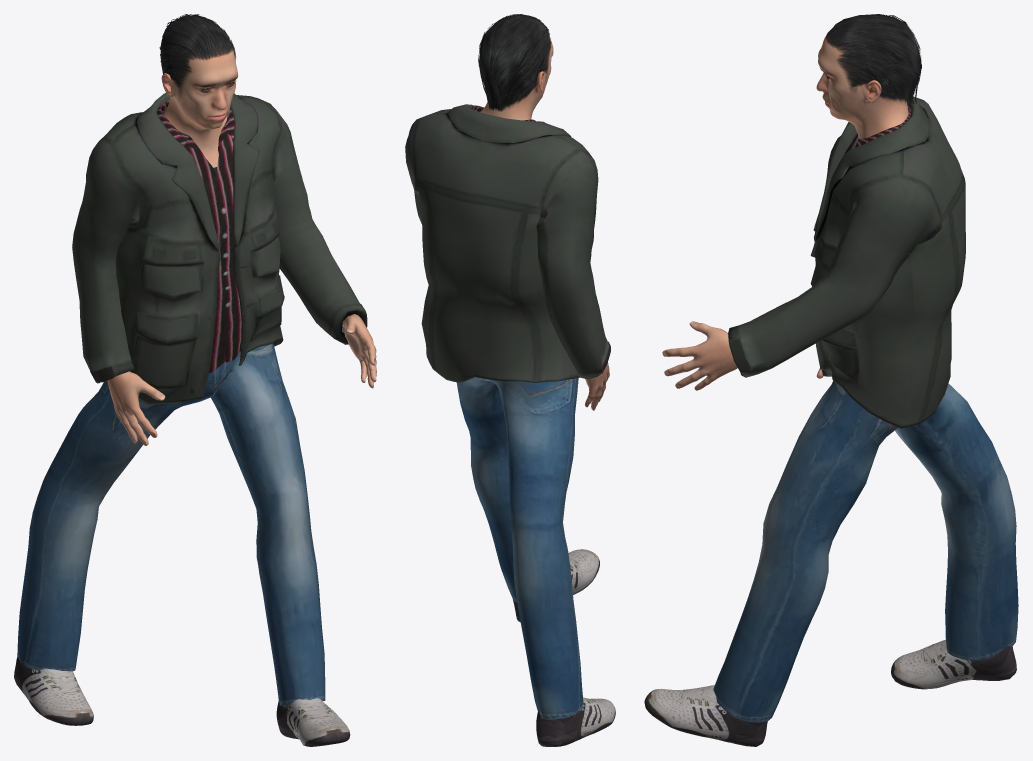
File: uomo-03.glb
The picture shows the model from 3 angles, left to right: view 1: azimuth 30°, elevation 25°; view 2: azimuth 150°, elevation 25°; view 3: azimuth 270°, elevation 25°; orthographic projection. The views are drawn at different scales.
Parts seen in each view (by area): view 1: Human.male_casualsuit05, Human, Human.shoes05, Human.short04; view 2: Human.male_casualsuit05, Human.short04, Human.shoes05, Human; view 3: Human.male_casualsuit05, Human.shoes05, Human, Human.short04.
Part boxes in pixels (x1,y1,x2,y2): Human.male_casualsuit05: [17, 93, 367, 705]; Human: [107, 49, 376, 445]; Human.shoes05: [14, 657, 350, 746]; Human.short04: [159, 14, 236, 95]; Human.male_casualsuit05: [405, 104, 610, 719]; Human.short04: [478, 14, 551, 111]; Human.shoes05: [513, 549, 615, 746]; Human: [481, 35, 609, 410]; Human.male_casualsuit05: [713, 96, 1018, 722]; Human.shoes05: [644, 639, 1016, 746]; Human: [662, 35, 908, 390]; Human.short04: [826, 14, 921, 104].
Size of the model in its own units: 0.6024 by 1.67 by 0.7907.
12 materials, 12 textured.
